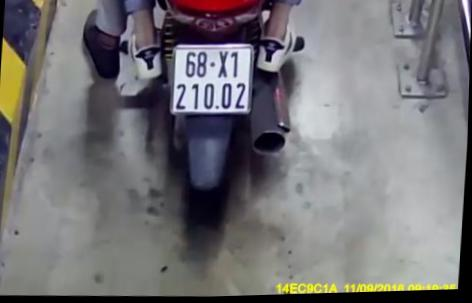LP: (169, 40, 257, 120)
